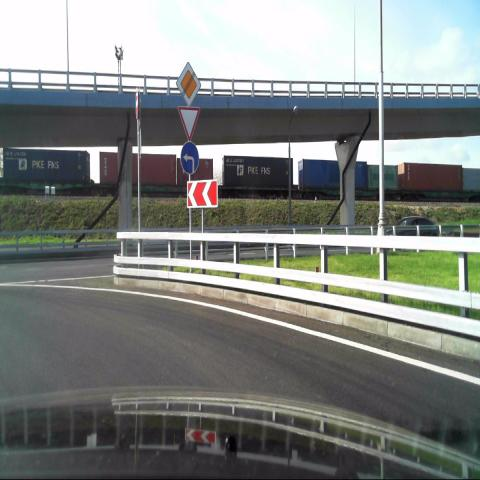2_2: (176, 63, 202, 107)
4_1_3: (180, 142, 199, 175)
